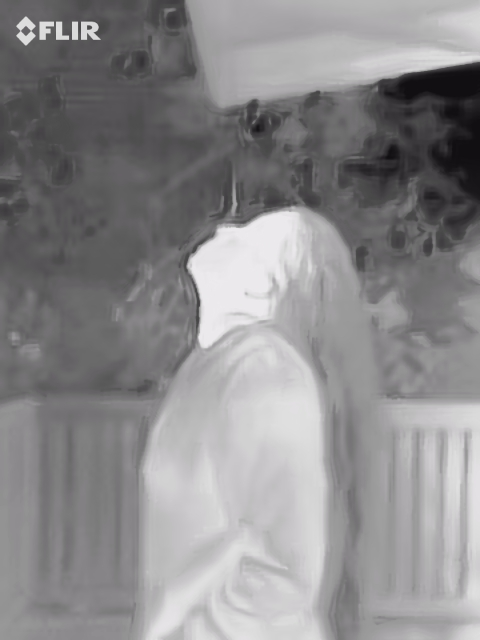head: (185, 201, 314, 302)
